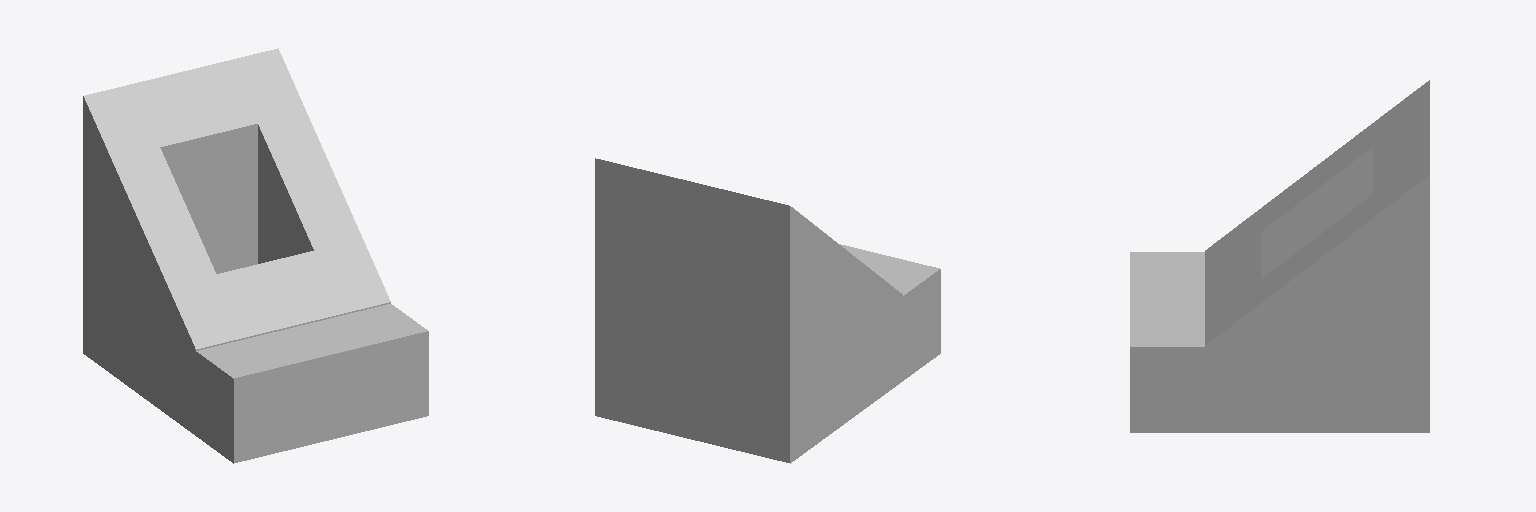
Rendered from machine.obj.
The picture shows the model from 3 angles: view 1: azimuth 30°, elevation 25°; view 2: azimuth 150°, elevation 25°; view 3: azimuth 270°, elevation 25°; orthographic projection.
Visible parts, largest first — view 1: machine; view 2: machine; view 3: machine.
Part boxes in pixels (x1,y1,x2,y2): machine: (83,48,428,463); machine: (595,158,940,463); machine: (1130,80,1429,432).
Bounding box in the file's own units: 3 × 3.79 × 4.